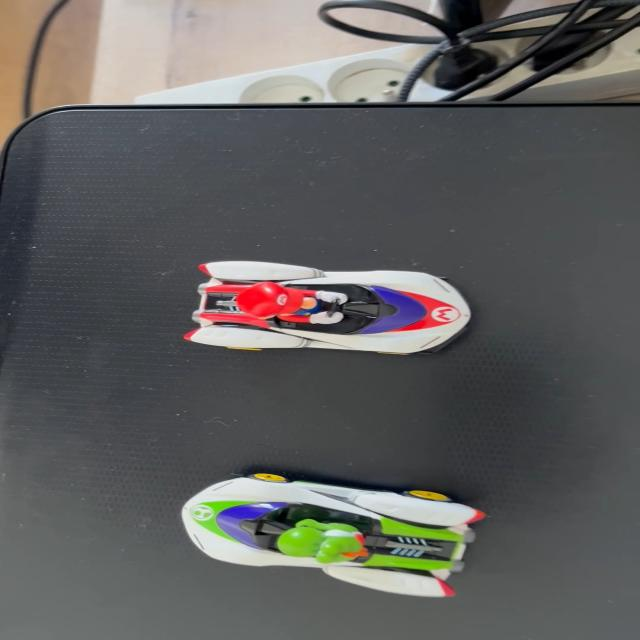mario: (178, 256, 482, 360)
yoshi: (159, 464, 500, 613)
